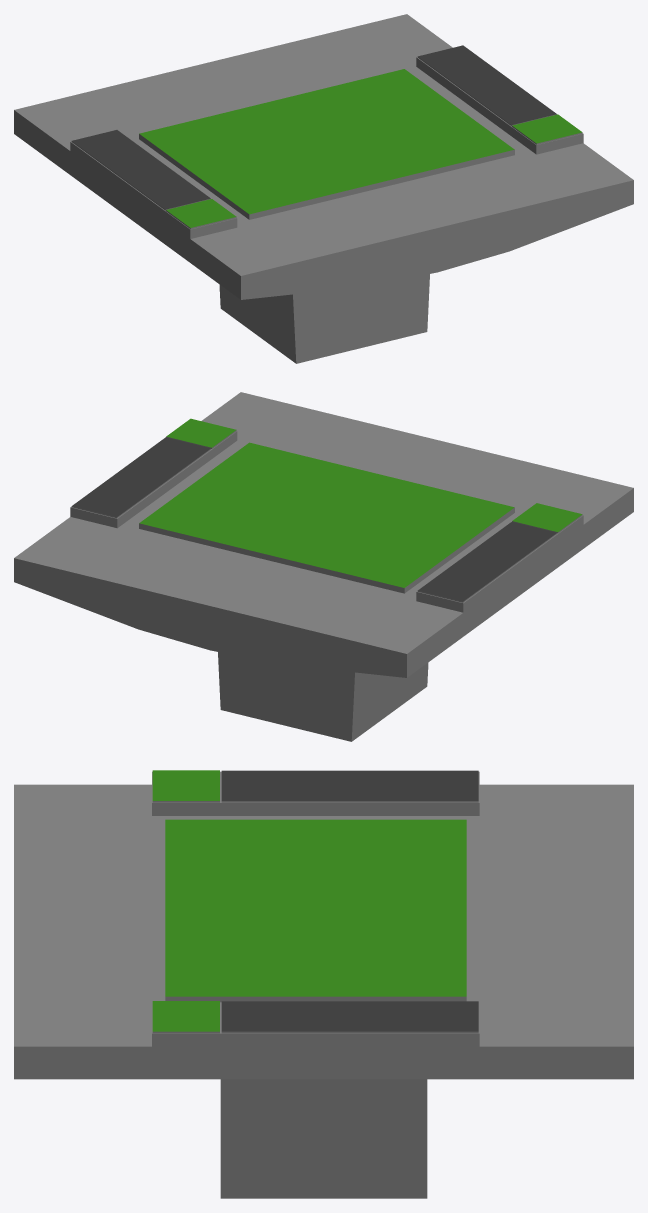
The model's file is adminslot.fbx.
3 views of the same model, one above another, from view 1: azimuth 30°, elevation 25°; view 2: azimuth 150°, elevation 25°; view 3: azimuth 270°, elevation 25° (orthographic). The views are drawn at different scales.
Visible parts, largest first — view 1: Cube; view 2: Cube; view 3: Cube.
Boxes of the visible parts, x1,y1,x2,y2 form: Cube: (14,14,633,363); Cube: (14,392,633,741); Cube: (14,770,633,1198).
Bounding box in the file's own units: 644 × 291 × 644.
